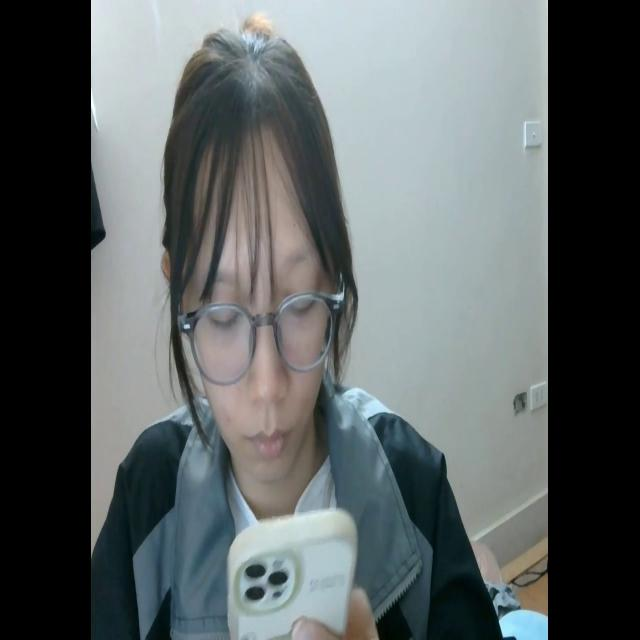phone: (224, 502, 362, 640)
student: (96, 17, 504, 640)
